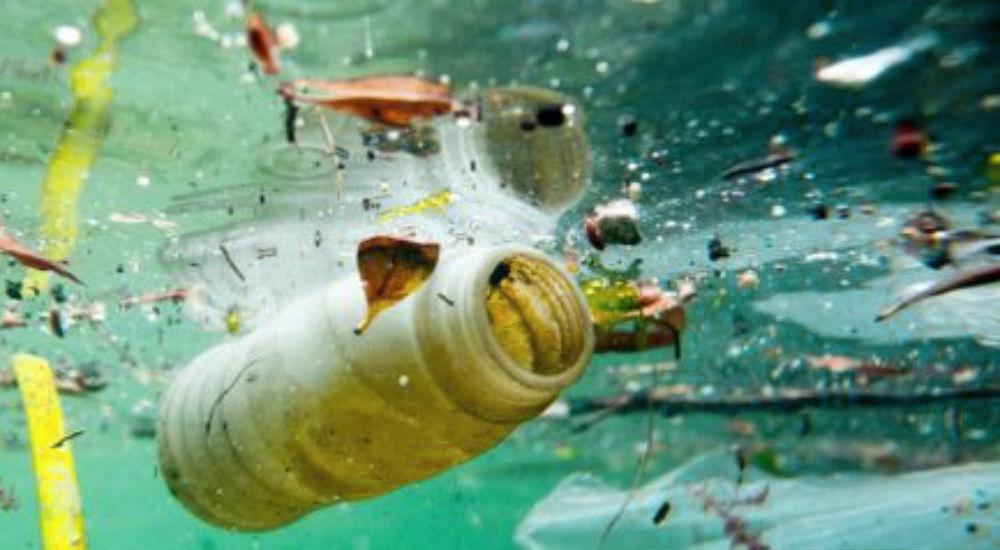Plastic: (97, 193, 625, 536)
